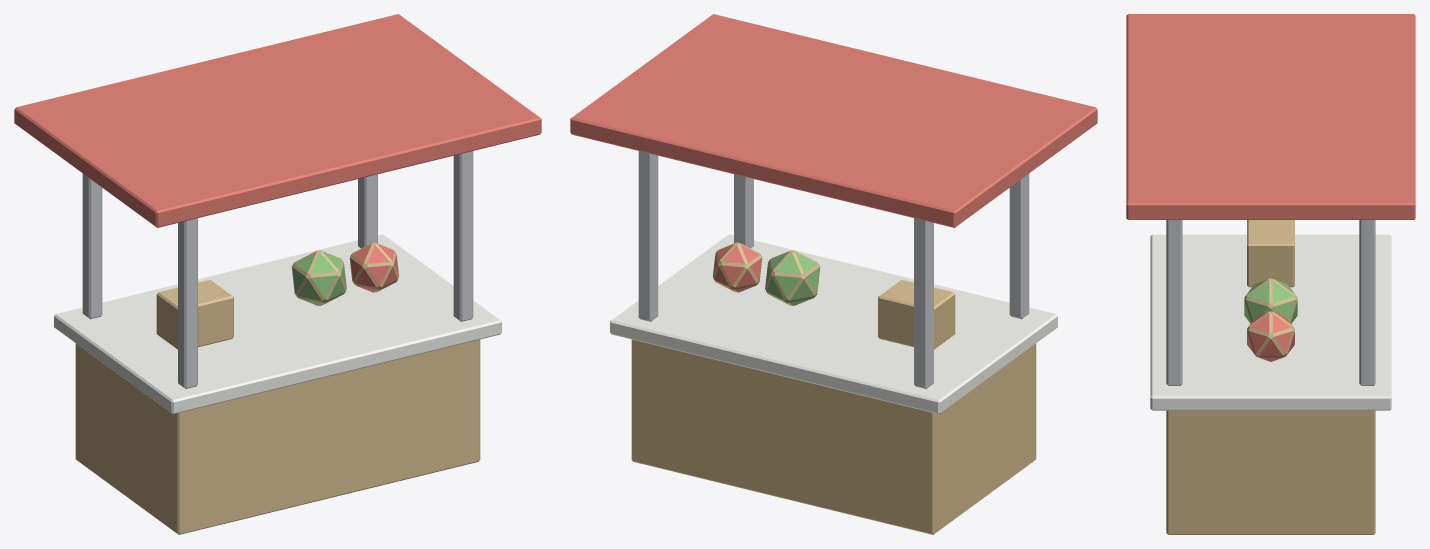
File: 构筑_路边摊_01.fbx
3 views of the same model, side by side, from view 1: azimuth 30°, elevation 25°; view 2: azimuth 150°, elevation 25°; view 3: azimuth 270°, elevation 25° (orthographic).
Visible parts, largest first — view 1: 篷顶, 摊车, 台面.005, 立柱.009, 货品; view 2: 篷顶, 摊车, 台面.005, 立柱.009, 货品; view 3: 篷顶, 台面.005, 摊车, 货品, 立柱.009.
Part boxes in pixels (x1,y1,x2,y2): 篷顶: [14, 14, 541, 227]; 摊车: [75, 339, 480, 534]; 台面.005: [54, 234, 501, 414]; 立柱.009: [82, 151, 473, 388]; 货品: [156, 242, 398, 349]; 篷顶: [570, 14, 1097, 227]; 摊车: [631, 339, 1036, 534]; 台面.005: [610, 234, 1057, 414]; 立柱.009: [638, 151, 1029, 388]; 货品: [713, 242, 955, 349]; 篷顶: [1126, 14, 1415, 219]; 台面.005: [1150, 234, 1391, 410]; 摊车: [1166, 410, 1375, 534]; 货品: [1244, 220, 1297, 361]; 立柱.009: [1166, 220, 1375, 385].
Bounding box in the file's own units: 280 × 242 × 180.
